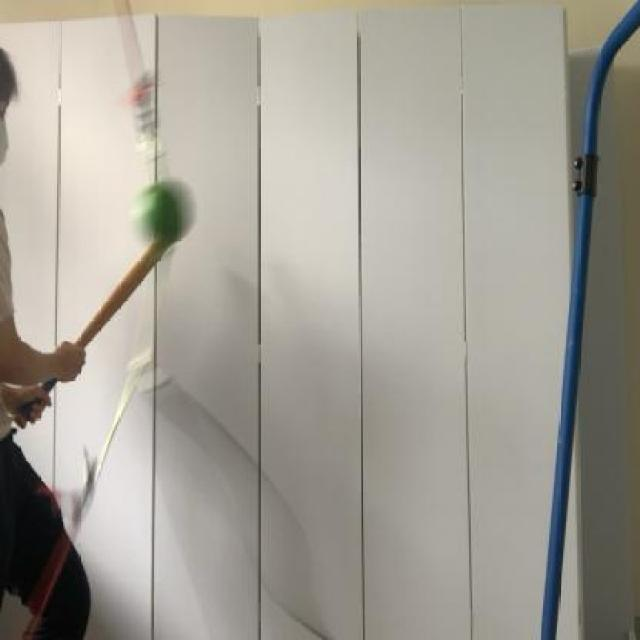baseball: (132, 164, 200, 265)
